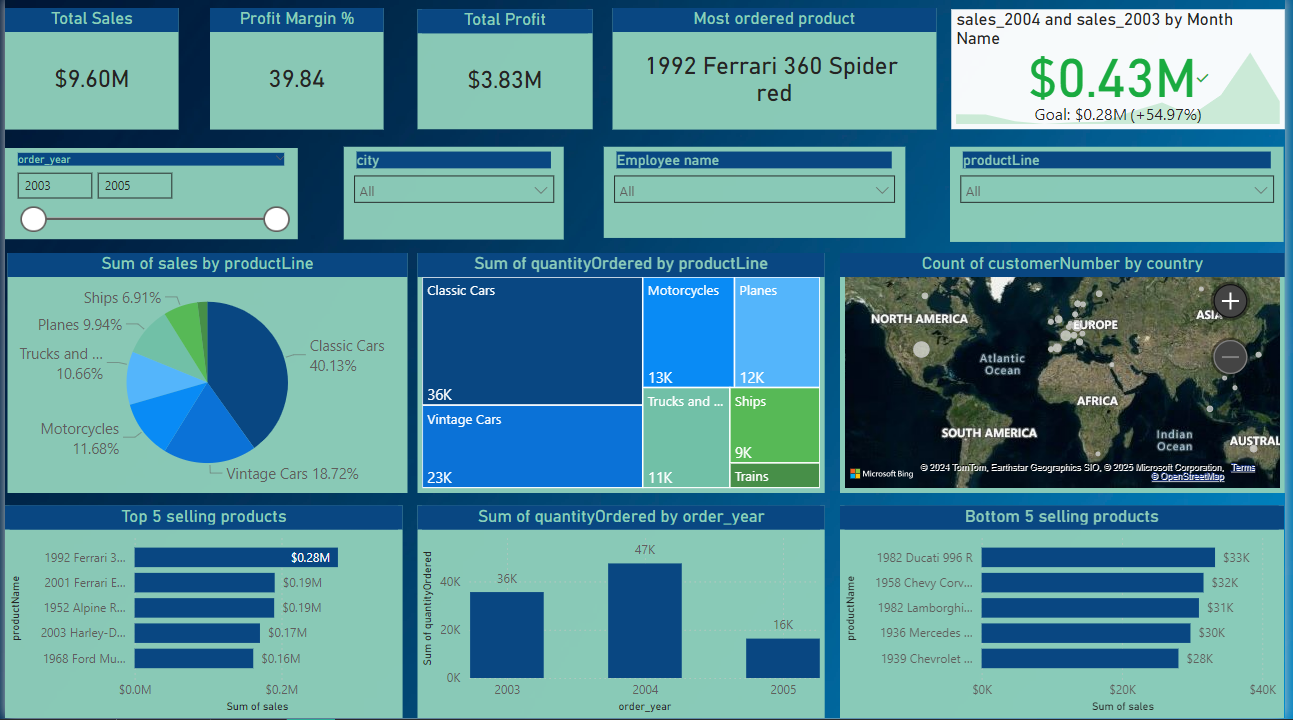

Layout of this report page (visuals, bound fields, positions):
{"tool":"powerbi","page":{"name":"Page 1","canvas":[1280,720],"ordinal":0},"visuals":[{"type":"card","title":"Total Profit","fields":{"Values":["order details.total_profit"]},"box":[412.5,11.2,175,120],"z":0},{"type":"clusteredBarChart","title":"Top 5 selling products","fields":{"Category":["products.productName"],"Y":["Sum(order details.sales)"]},"box":[0,507.5,397.5,212.5],"z":1000},{"type":"pieChart","fields":{"Y":["Sum(order details.sales)"],"Category":["products.productLine"]},"box":[2.5,255,400,240],"z":2000},{"type":"card","title":"Most ordered product","fields":{"Values":["customers.MostOrderedProduct"]},"box":[607.5,10,323.8,121.2],"z":3000},{"type":"slicer","fields":{"Values":["orders.order_year"]},"box":[0,150,292.5,91.2],"z":4000},{"type":"kpi","fields":{"Goal":["orders.sales_2003"],"TrendLine":["orders.Month Name"],"Indicator":["orders.sales_2004"]},"box":[946.2,11.2,333.8,120],"z":5000},{"type":"map","fields":{"Category":["customers.country"],"Size":["CountNonNull(customers.customerNumber)"]},"box":[835,255,445,240],"z":6000},{"type":"treemap","fields":{"Group":["productlines.productLine"],"Values":["Sum(order details.quantityOrdered)"]},"box":[412.5,255,407.5,240],"z":7000},{"type":"columnChart","fields":{"Y":["Sum(order details.quantityOrdered)"],"Category":["orders.order_year"]},"box":[412.5,507.5,407.5,212.5],"z":8000},{"type":"card","title":"Profit Margin %","fields":{"Values":["customers.profit_margin_%"]},"box":[205,10,173.8,121.2],"z":9000},{"type":"card","title":"Total Sales","fields":{"Values":["customers.Total sales"]},"box":[0,10,173.8,121.2],"z":10000},{"type":"slicer","fields":{"Values":["customers.city"]},"box":[338.8,148.8,220,92.5],"z":11000},{"type":"slicer","fields":{"Values":["employees.Full name"]},"box":[598.8,148.8,301.2,91.2],"z":12000},{"type":"slicer","fields":{"Values":["productlines.productLine"]},"box":[945,148.8,333.8,95],"z":13000},{"type":"clusteredBarChart","title":"Bottom 5 selling products","fields":{"Category":["products.productName"],"Y":["Sum(order details.sales)"]},"box":[835,507.5,443.8,212.5],"z":13001}]}

Visuals, with their boxes in screenshot pixels (x1, y1, x2, y2), scaled from the page's 1280x720 canvas onto the 1293x720 screenshot:
"Total Profit" card: bbox=[417, 11, 593, 131]
"Top 5 selling products" clusteredBarChart: bbox=[0, 508, 402, 719]
pieChart - Sum(order details.sales) x products.productLine: bbox=[3, 255, 407, 495]
"Most ordered product" card: bbox=[614, 10, 941, 131]
slicer - orders.order_year: bbox=[0, 150, 295, 241]
kpi - orders.sales_2003 x orders.Month Name: bbox=[956, 11, 1292, 131]
map - customers.country x CountNonNull(customers.customerNumber): bbox=[843, 255, 1292, 495]
treemap - productlines.productLine x Sum(order details.quantityOrdered): bbox=[417, 255, 828, 495]
columnChart - Sum(order details.quantityOrdered) x orders.order_year: bbox=[417, 508, 828, 719]
"Profit Margin %" card: bbox=[207, 10, 383, 131]
"Total Sales" card: bbox=[0, 10, 176, 131]
slicer - customers.city: bbox=[342, 149, 564, 241]
slicer - employees.Full name: bbox=[605, 149, 909, 240]
slicer - productlines.productLine: bbox=[955, 149, 1292, 244]
"Bottom 5 selling products" clusteredBarChart: bbox=[843, 508, 1292, 719]
